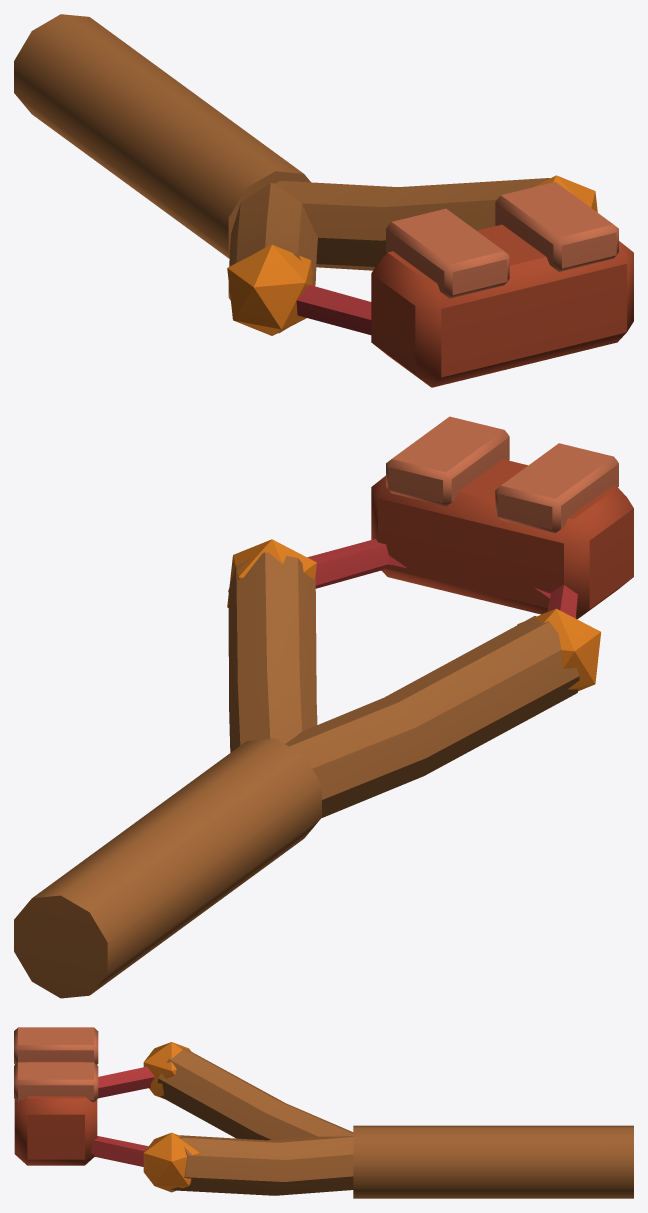
The model's file is w_b_brick.glb.
3 renders of one model, top to bottom at view 1: azimuth 30°, elevation 25°; view 2: azimuth 150°, elevation 25°; view 3: azimuth 270°, elevation 25°, orthographic. The views are drawn at different scales.
Visible parts, largest first — view 1: body; view 2: body; view 3: body.
Part boxes in pixels (left/top/right/bottom): body: left=14, top=14, right=633, bottom=387; body: left=14, top=416, right=633, bottom=998; body: left=14, top=1027, right=633, bottom=1198.
Size of the model in its own units: 0.1658 by 0.095 by 0.3755.
